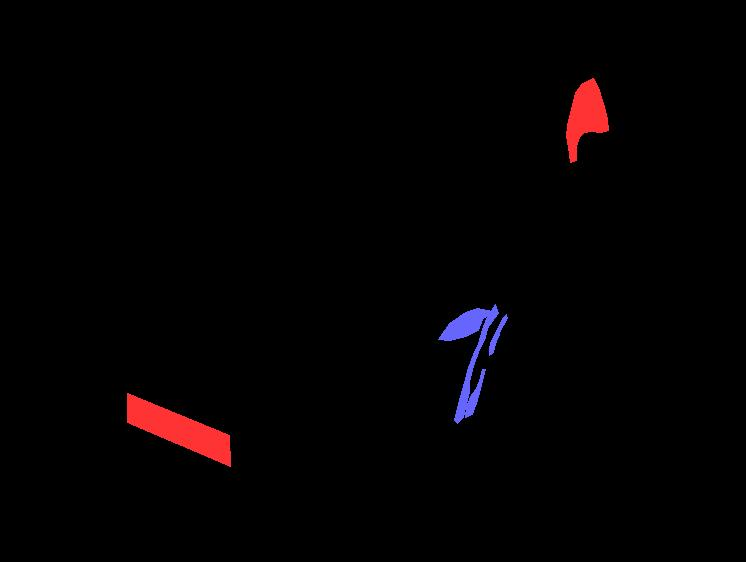Missing part: (127, 393, 230, 466), (566, 78, 608, 162)
Scratch: (454, 304, 498, 423), (438, 308, 492, 340), (465, 369, 485, 417), (489, 314, 507, 355)
